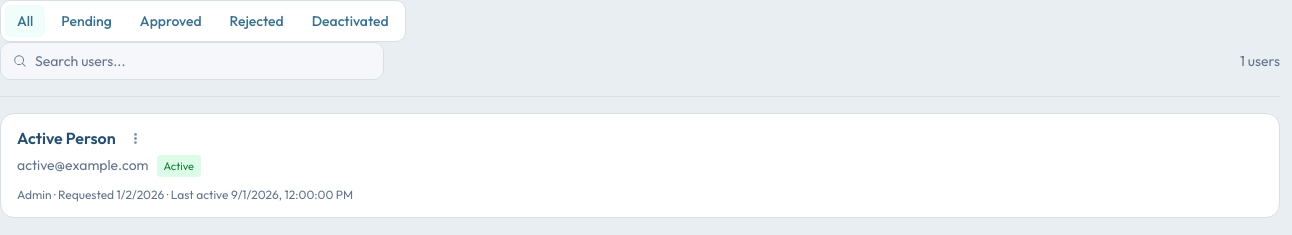
Test case: UsersPage › hides the resend approval email item when the feature flag is disabled
Press the mouse on the button named "Actions for Active Person" at (136, 138), box [124,126,148,150]
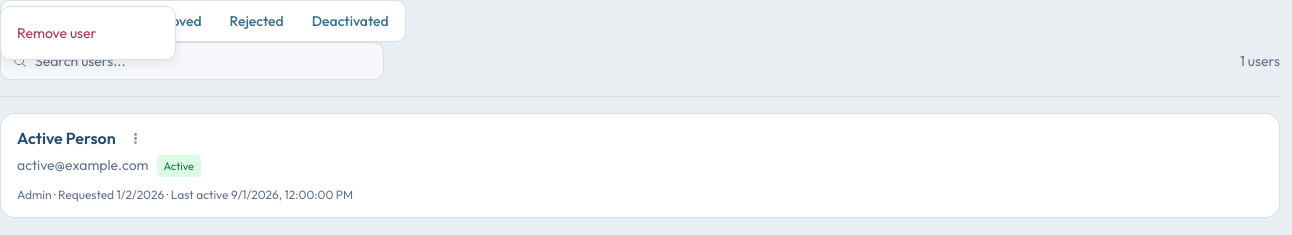
expect the menu is shown: met, box [0,6,176,60]
expect the menu item "Remove user" is shown: met, box [17,24,96,42]
